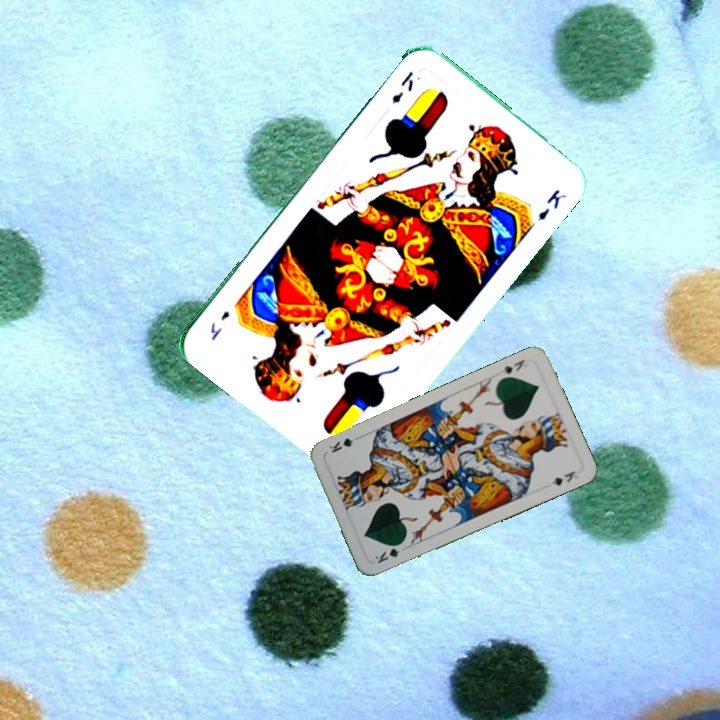EK: (387, 67, 416, 107)
GK: (371, 538, 406, 566), (497, 355, 530, 377)
